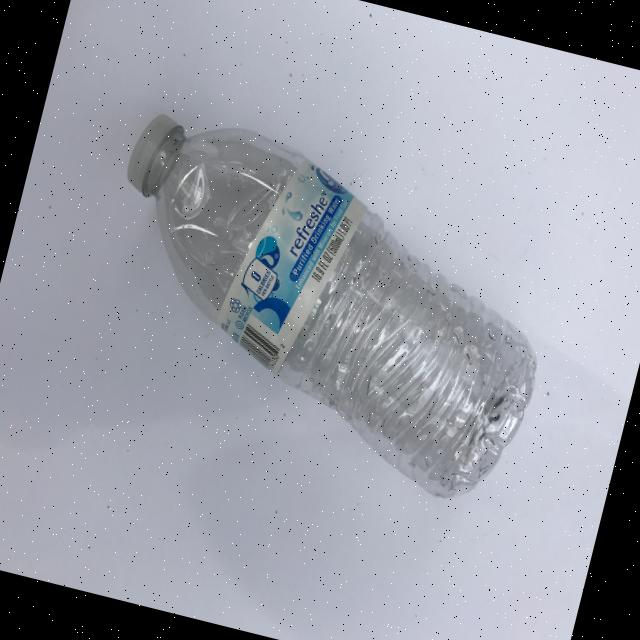plastic: (67, 101, 578, 514)
